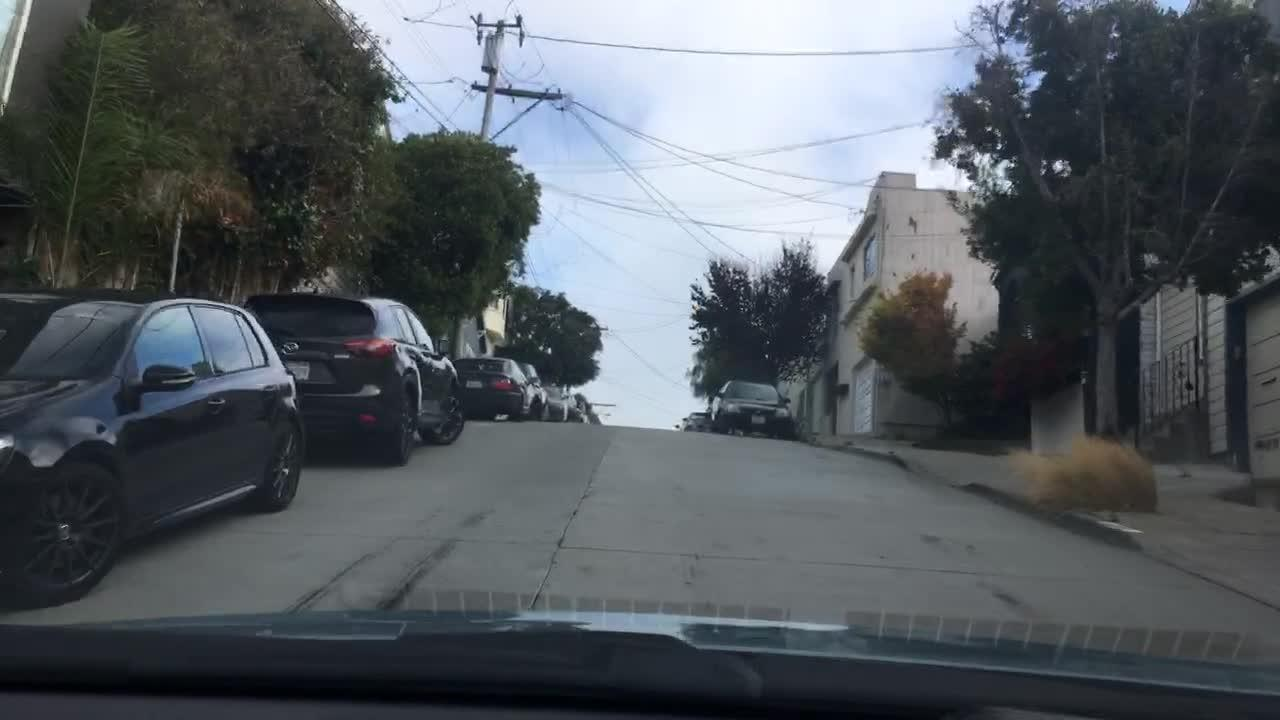Mazda: (280, 340, 303, 356)
